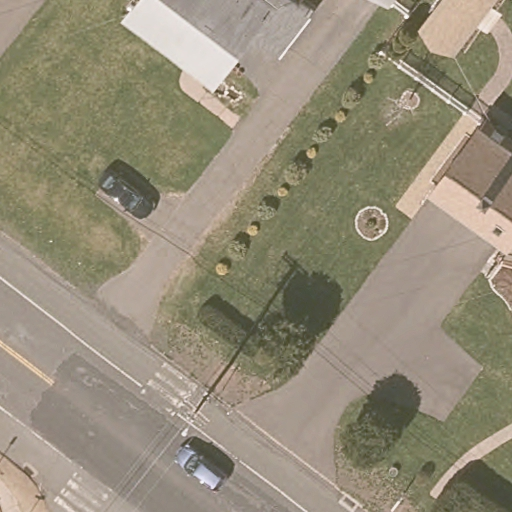DT: (176, 385, 232, 437)
